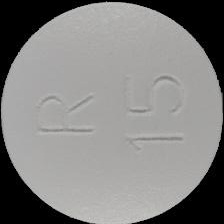68084-528: (0, 0, 224, 224)
